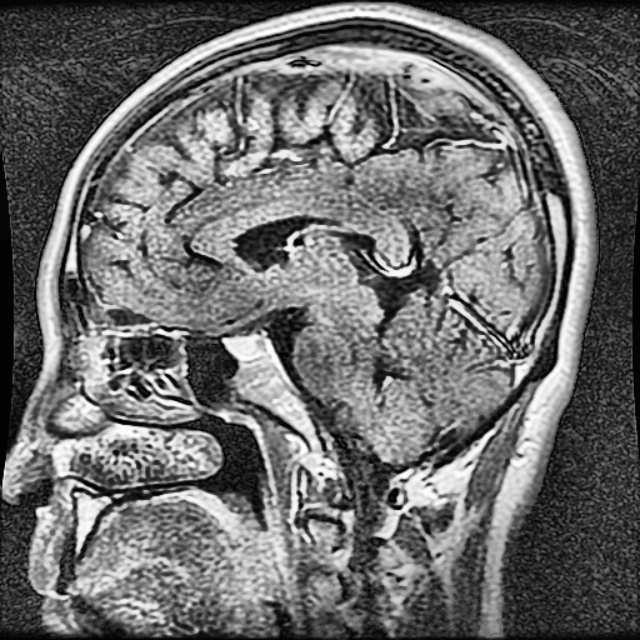Pituitary: (222, 335, 269, 359)
